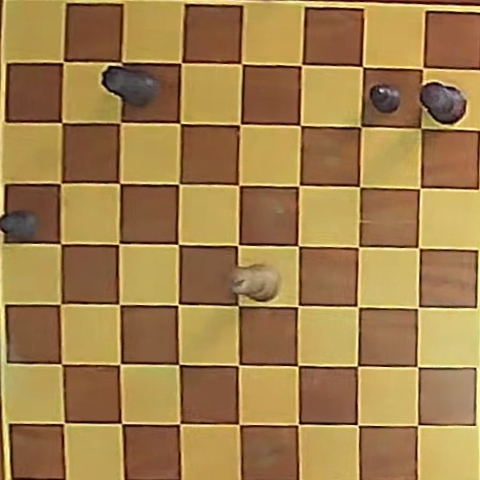black-king: (420, 82, 466, 124)
black-pawn: (0, 209, 39, 242), (370, 84, 401, 113)
black-queen: (103, 66, 160, 107)
white-king: (231, 264, 280, 301)
